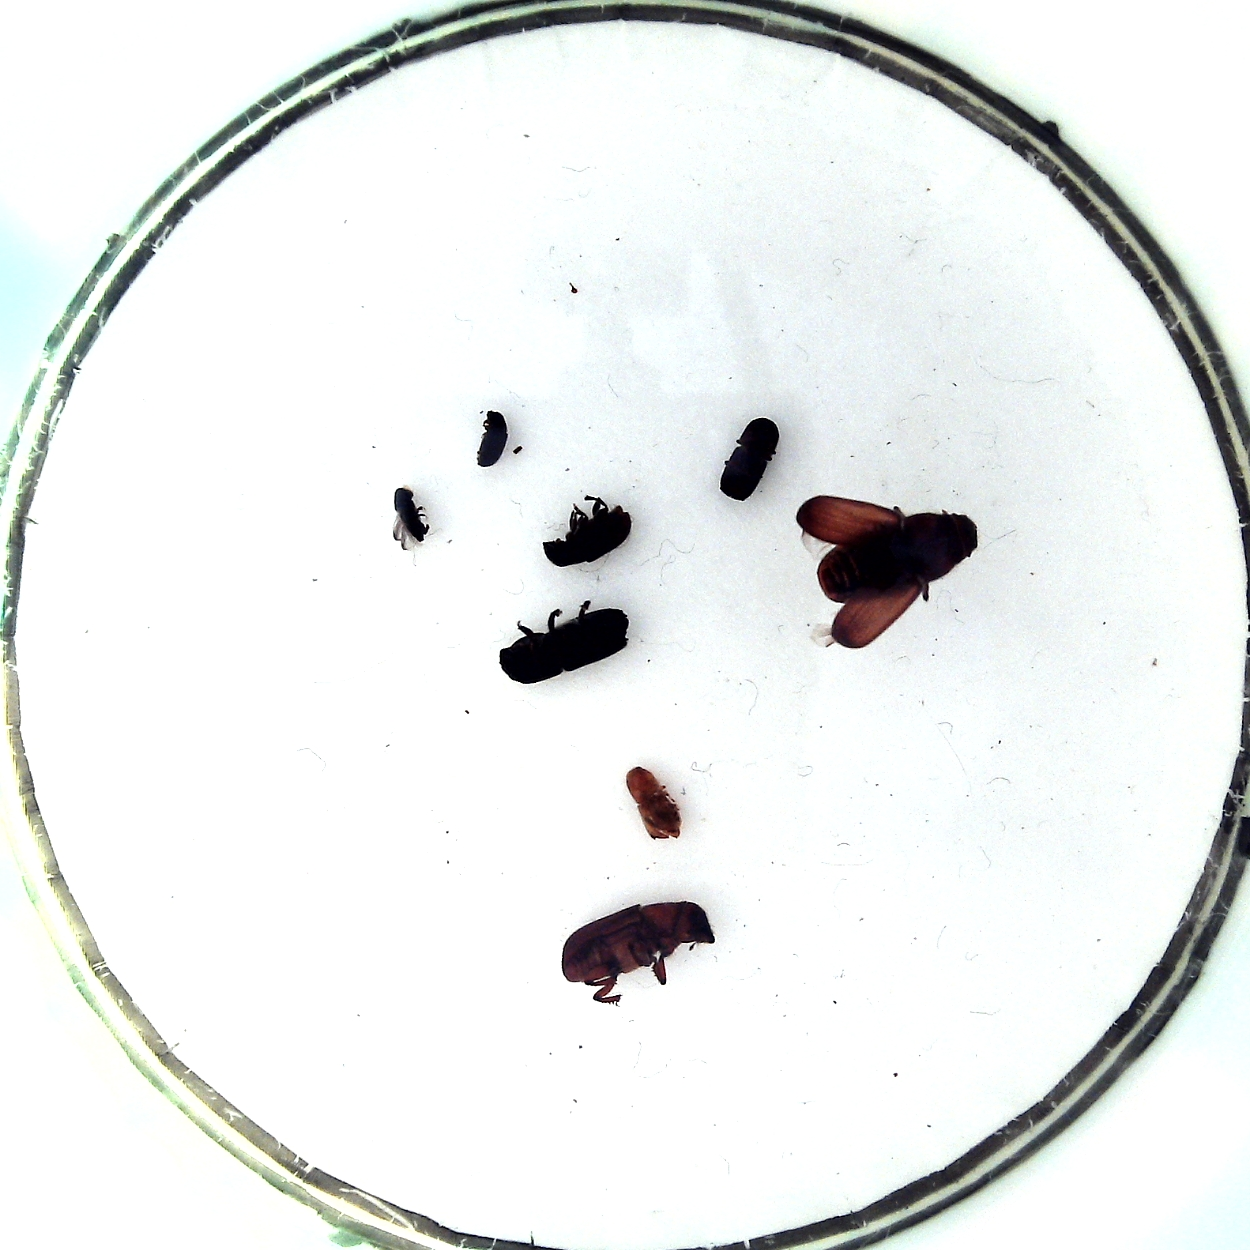Boerner: (499, 609, 628, 685)
Leconte: (817, 514, 978, 604), (561, 900, 717, 984)
acuminatus: (394, 488, 428, 540), (476, 411, 508, 467)
armandi: (541, 506, 632, 565)
coleoptera: (626, 766, 682, 841)
linnaeus: (719, 416, 781, 501)
